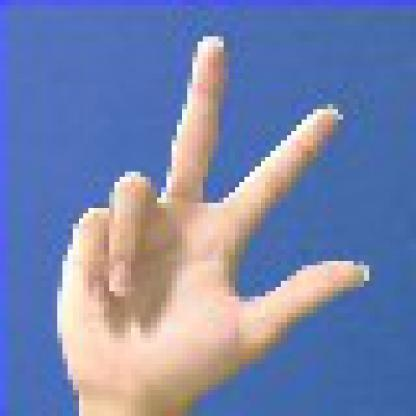eight: (47, 21, 380, 412)
